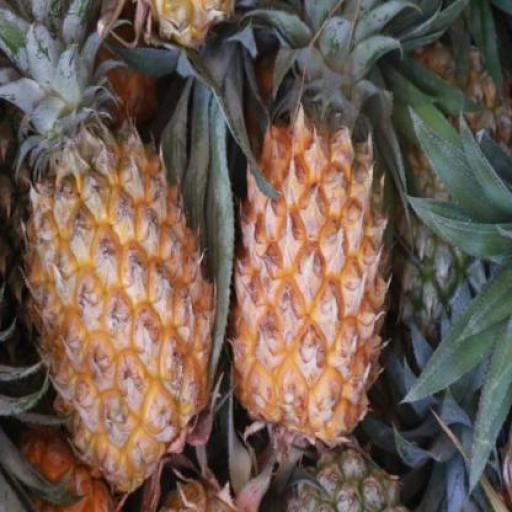Pineapple - v8 v1: (22, 115, 212, 497), (230, 108, 384, 450)
